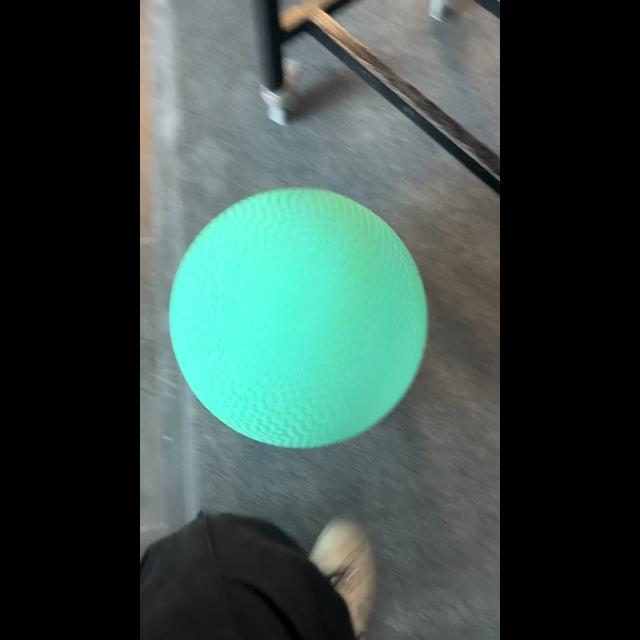ALGAE: (168, 186, 428, 450)
